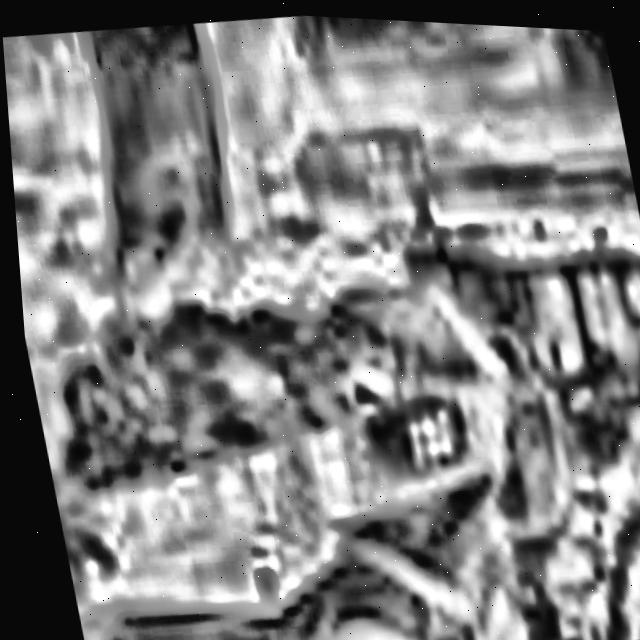dump_truck: (13, 219, 640, 640)
